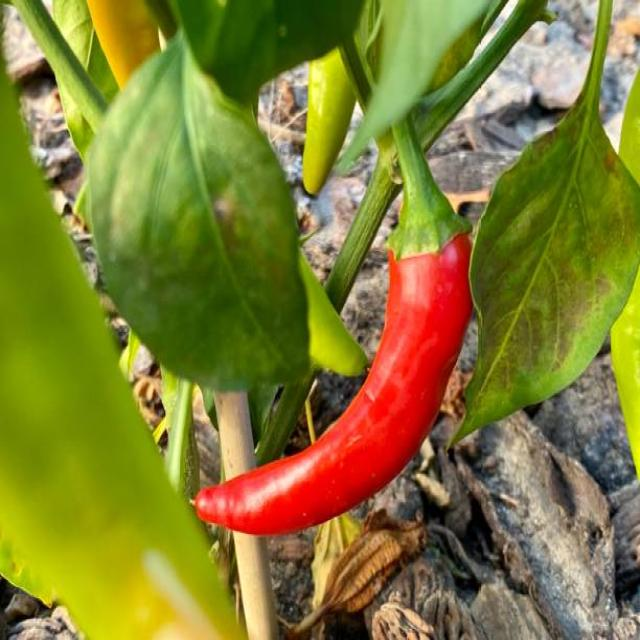Ripe: (195, 234, 471, 534)
Unripe: (302, 50, 356, 194)
